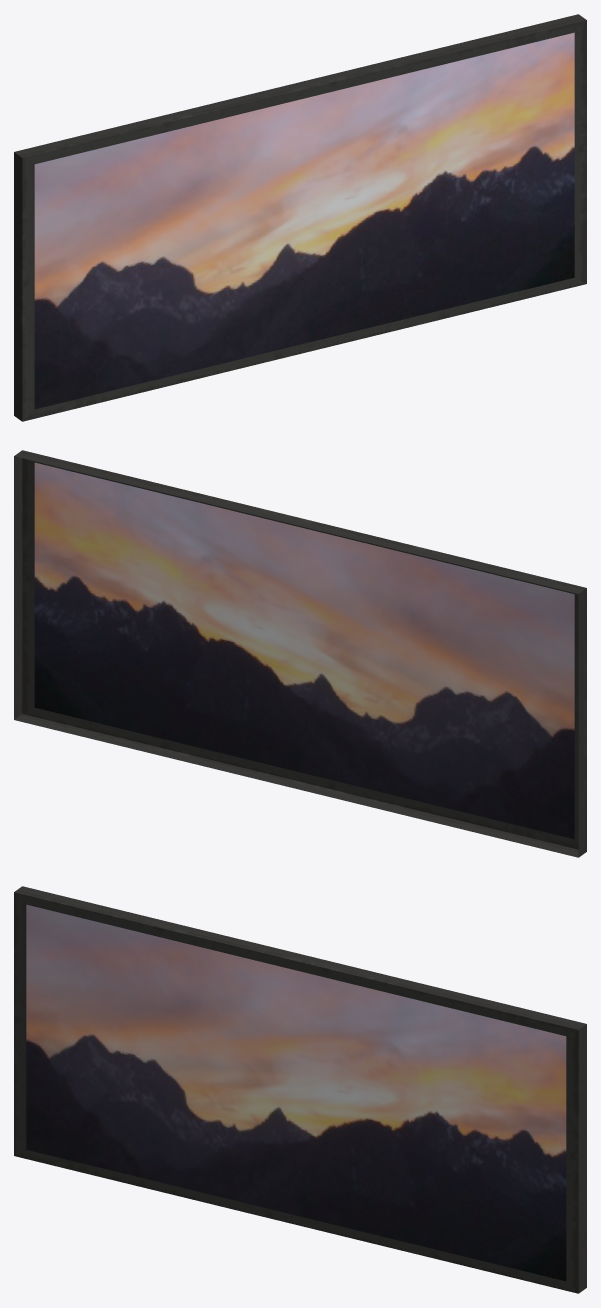
Rendered from paint_3.fbx.
The picture shows the model from 3 angles, top to bottom: view 1: azimuth 30°, elevation 25°; view 2: azimuth 150°, elevation 25°; view 3: azimuth 330°, elevation 25°; orthographic projection.
Visible parts, largest first — view 1: pCube3; view 2: pCube3; view 3: pCube3.
Boxes of the visible parts, x1,y1,x2,y2 form: pCube3: (14,14,586,421); pCube3: (14,450,586,857); pCube3: (14,886,586,1293).
Bounding box in the file's own units: 193 × 86.22 × 4.93.
